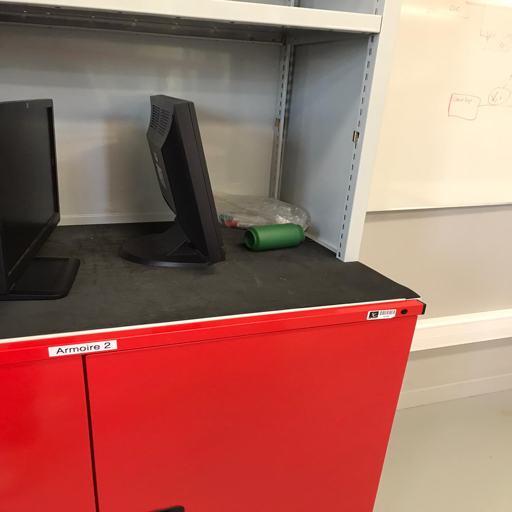Green_Can: (243, 222, 305, 252)
